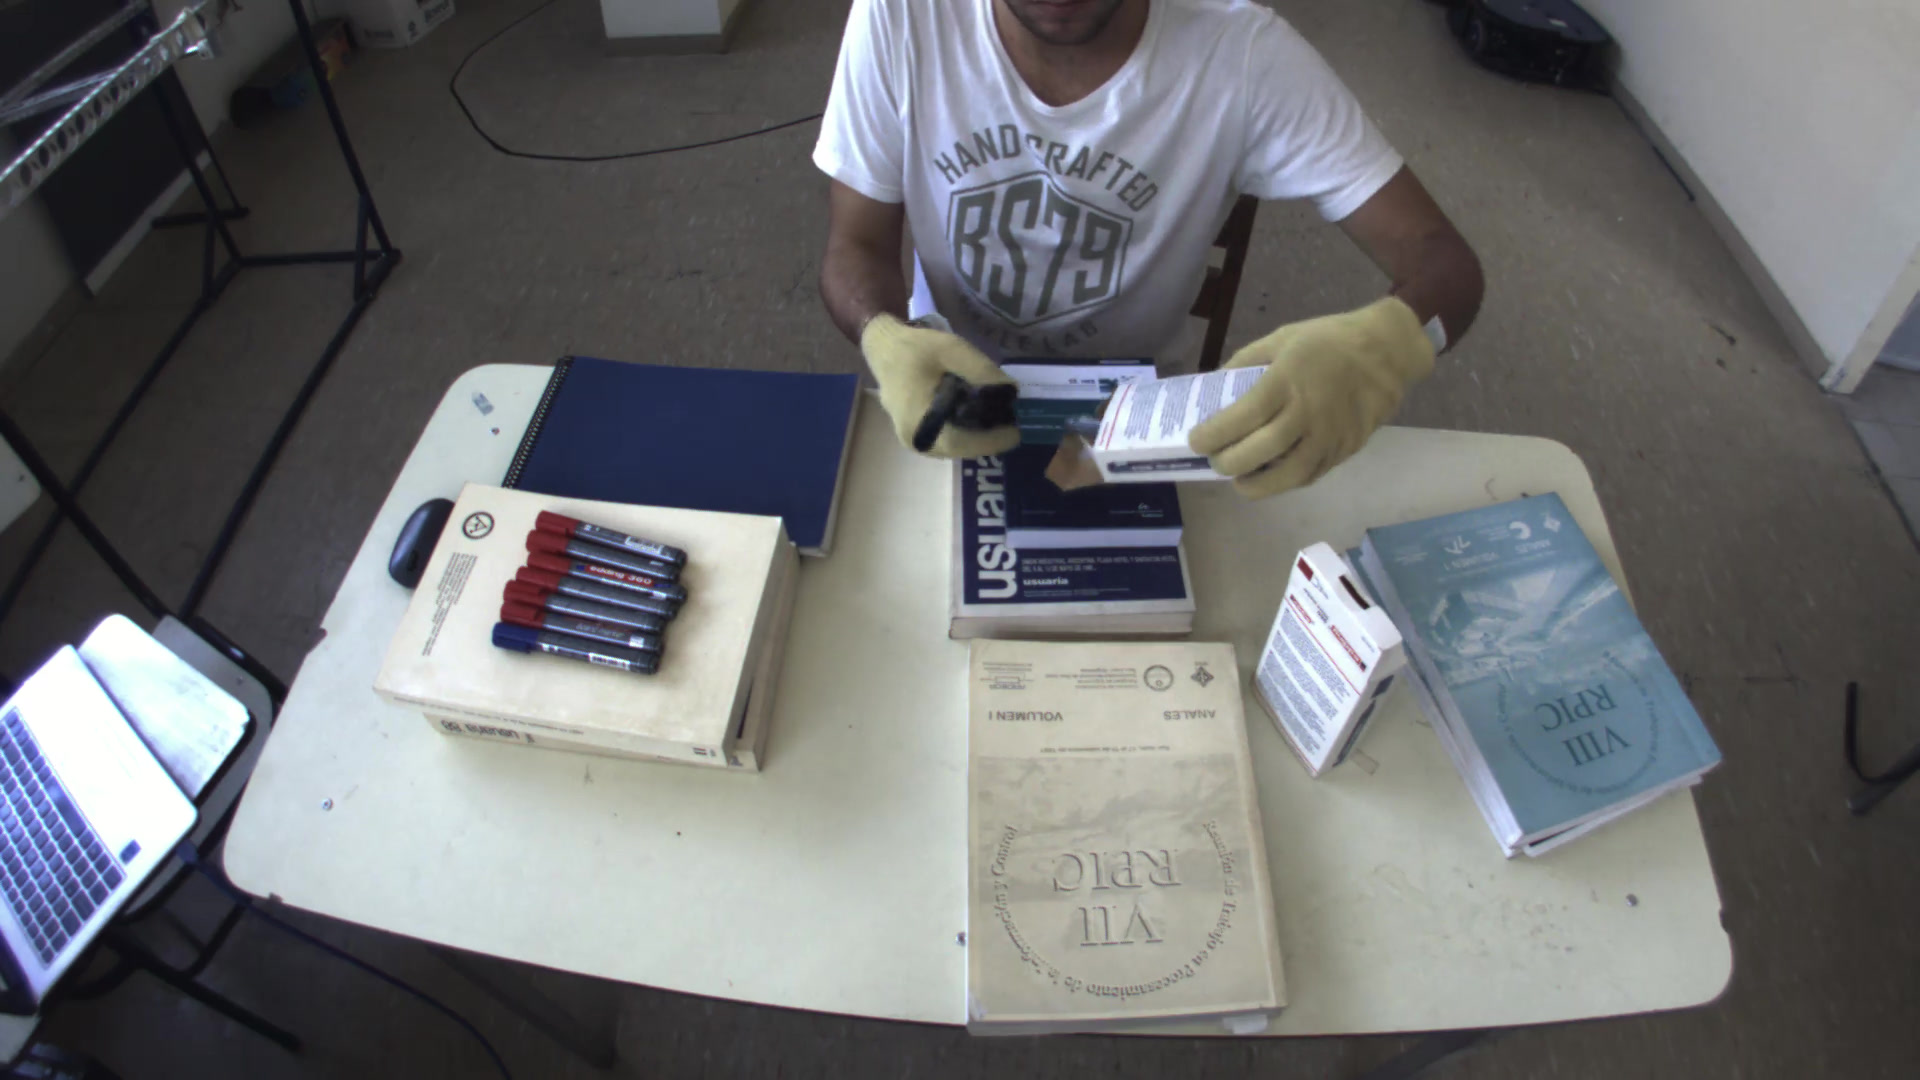hand: (1183, 280, 1447, 505), (843, 301, 1033, 465)
